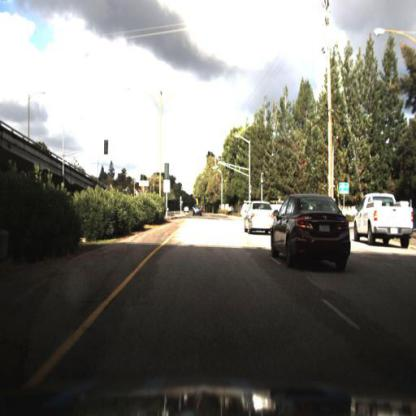car: (274, 191, 354, 283), (354, 191, 416, 252), (245, 197, 275, 233), (191, 204, 205, 220)
trafficLight-Green: (216, 157, 220, 173)
